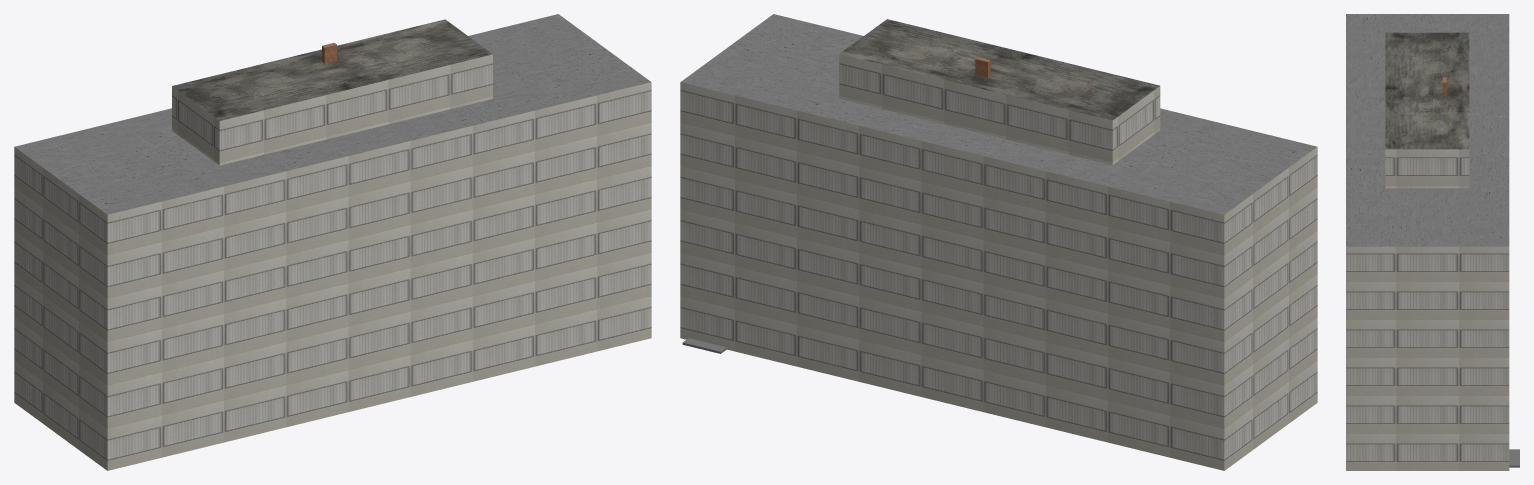
The model's file is LOD01_Building_7stores_BusinessOffice.obj.
3 views of the same model, side by side, from view 1: azimuth 30°, elevation 25°; view 2: azimuth 150°, elevation 25°; view 3: azimuth 270°, elevation 25° (orthographic). The views are drawn at different scales.
Visible parts, largest first — view 1: LOD01_Building_7stores_BusinessOffice; view 2: LOD01_Building_7stores_BusinessOffice; view 3: LOD01_Building_7stores_BusinessOffice.
Boxes of the visible parts, bbox=[...] form: LOD01_Building_7stores_BusinessOffice: bbox=[14, 14, 651, 470]; LOD01_Building_7stores_BusinessOffice: bbox=[680, 14, 1317, 470]; LOD01_Building_7stores_BusinessOffice: bbox=[1346, 14, 1519, 470].
Size of the model in its own units: 13.12 by 7.3 by 4.14.
